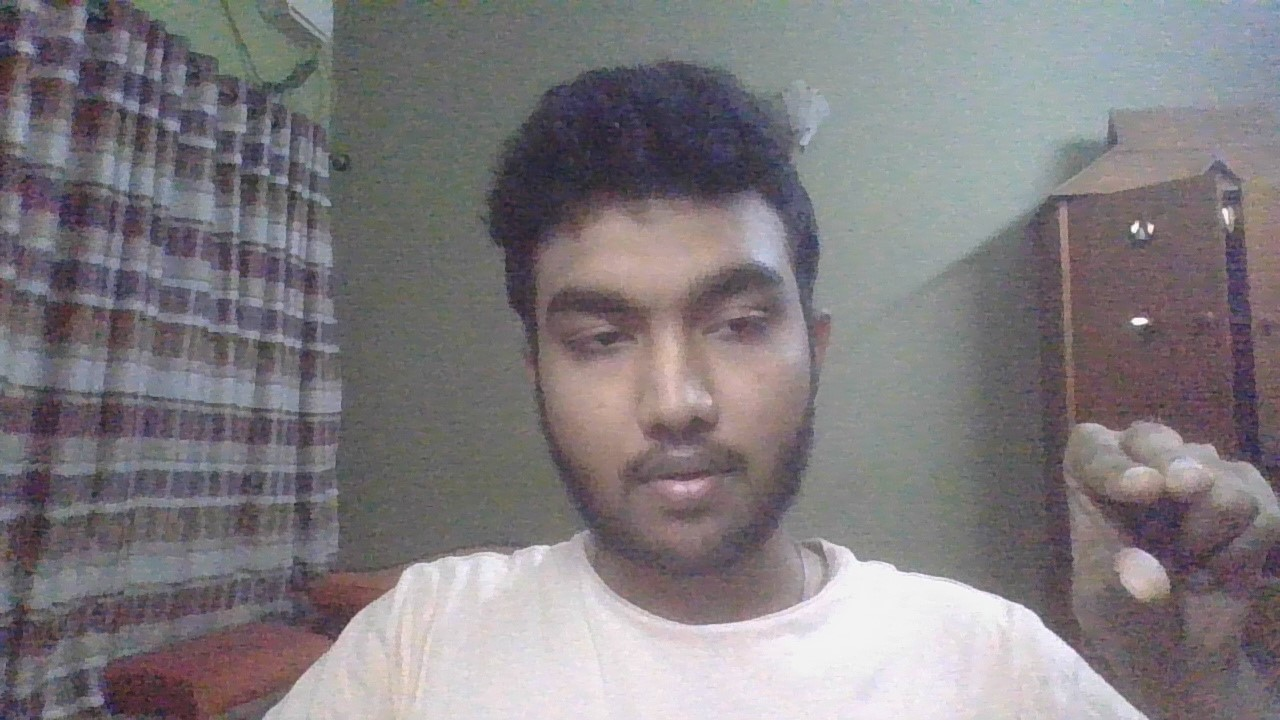No: (1053, 401, 1280, 682)
